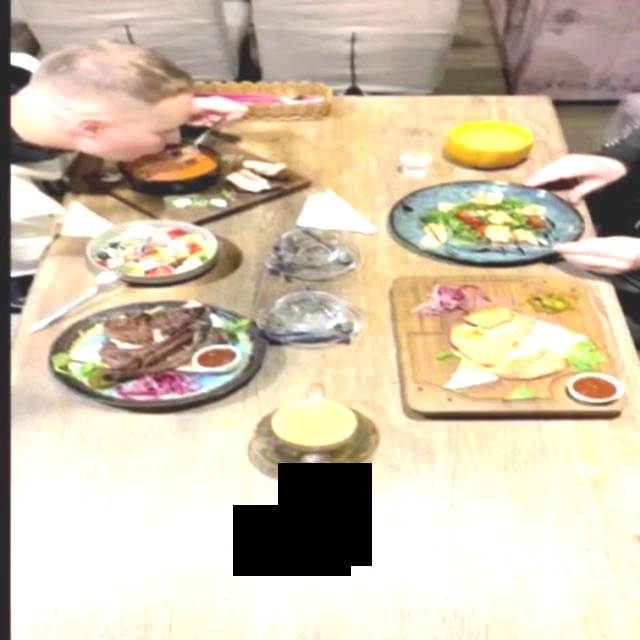meat: (388, 278, 629, 419), (47, 301, 268, 408)
salad: (389, 180, 588, 264), (82, 218, 218, 283)
soup: (75, 135, 312, 225), (445, 120, 537, 167)
tea: (238, 378, 396, 503)
